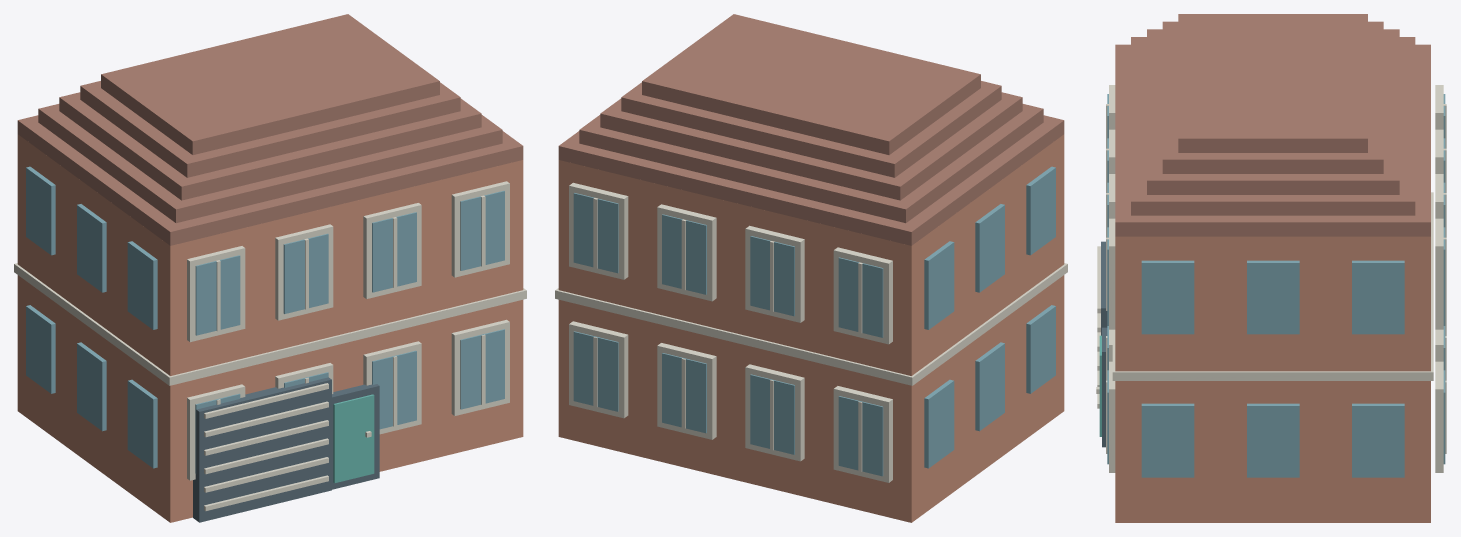
File: predio_garagem.glb
3 renders of one model, left to right at view 1: azimuth 30°, elevation 25°; view 2: azimuth 150°, elevation 25°; view 3: azimuth 270°, elevation 25°, orthographic. The views are drawn at different scales.
Visible parts, largest first — view 1: garage-house-brick, garage-house-roof, garage-house-glass, garage-house-concrete, garage-house-dark, garage-house-accent; view 2: garage-house-brick, garage-house-roof, garage-house-glass, garage-house-concrete; view 3: garage-house-roof, garage-house-brick, garage-house-glass, garage-house-concrete, garage-house-dark.
Boxes of the visible parts, bbox=[...] form: garage-house-brick: bbox=[17, 134, 523, 522]; garage-house-roof: bbox=[17, 14, 523, 245]; garage-house-glass: bbox=[26, 166, 504, 473]; garage-house-concrete: bbox=[14, 181, 526, 511]; garage-house-dark: bbox=[193, 377, 379, 522]; garage-house-accent: bbox=[333, 394, 374, 483]; garage-house-brick: bbox=[558, 134, 1064, 522]; garage-house-roof: bbox=[558, 14, 1064, 245]; garage-house-glass: bbox=[573, 166, 1055, 476]; garage-house-concrete: bbox=[555, 182, 1067, 482]; garage-house-roof: bbox=[1115, 14, 1430, 236]; garage-house-brick: bbox=[1115, 236, 1430, 522]; garage-house-glass: bbox=[1107, 94, 1445, 477]; garage-house-concrete: bbox=[1096, 85, 1446, 472]; garage-house-dark: bbox=[1101, 241, 1107, 447].
Bounding box in the file's own units: 8.2 × 7.5 × 6.66.
